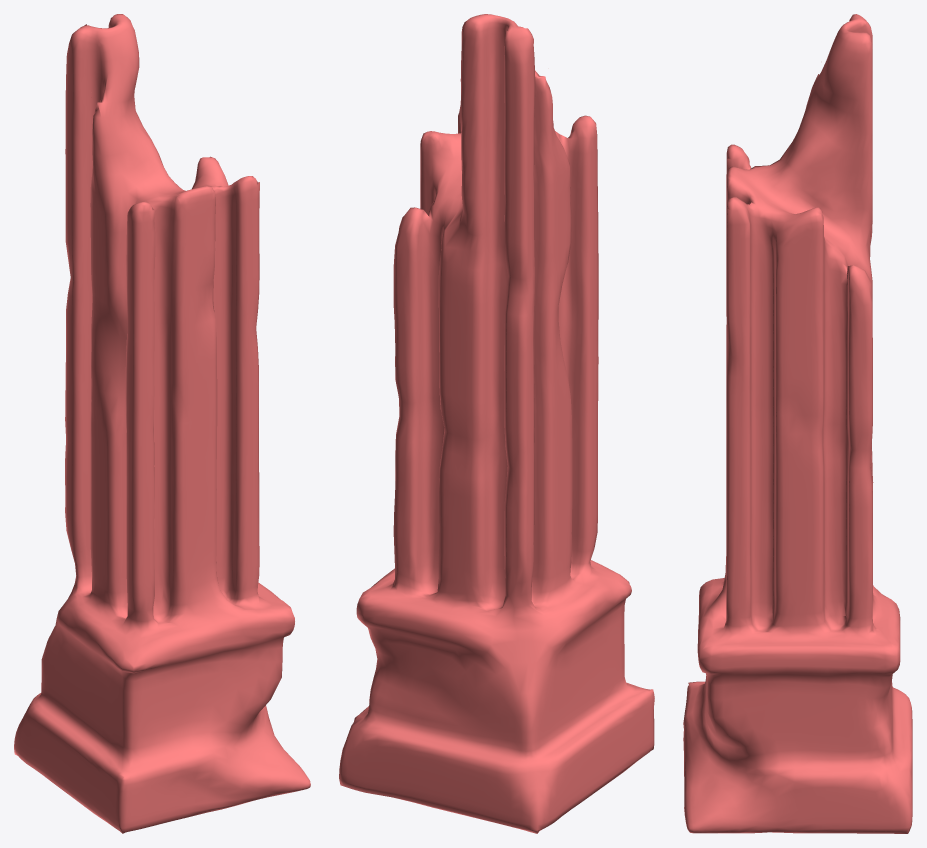
The model's file is PILLAR03.fbx.
3 views of the same model, side by side, from view 1: azimuth 30°, elevation 25°; view 2: azimuth 150°, elevation 25°; view 3: azimuth 270°, elevation 25° (orthographic). The views are drawn at different scales.
Visible parts, largest first — view 1: pCube3; view 2: pCube3; view 3: pCube3.
Part boxes in pixels (box(x1,y1,x2,y2)): pCube3: box(14, 14, 310, 833); pCube3: box(339, 14, 654, 833); pCube3: box(683, 14, 912, 833).
Bounding box in the file's own units: 0.9994 × 3.65 × 1.01.
